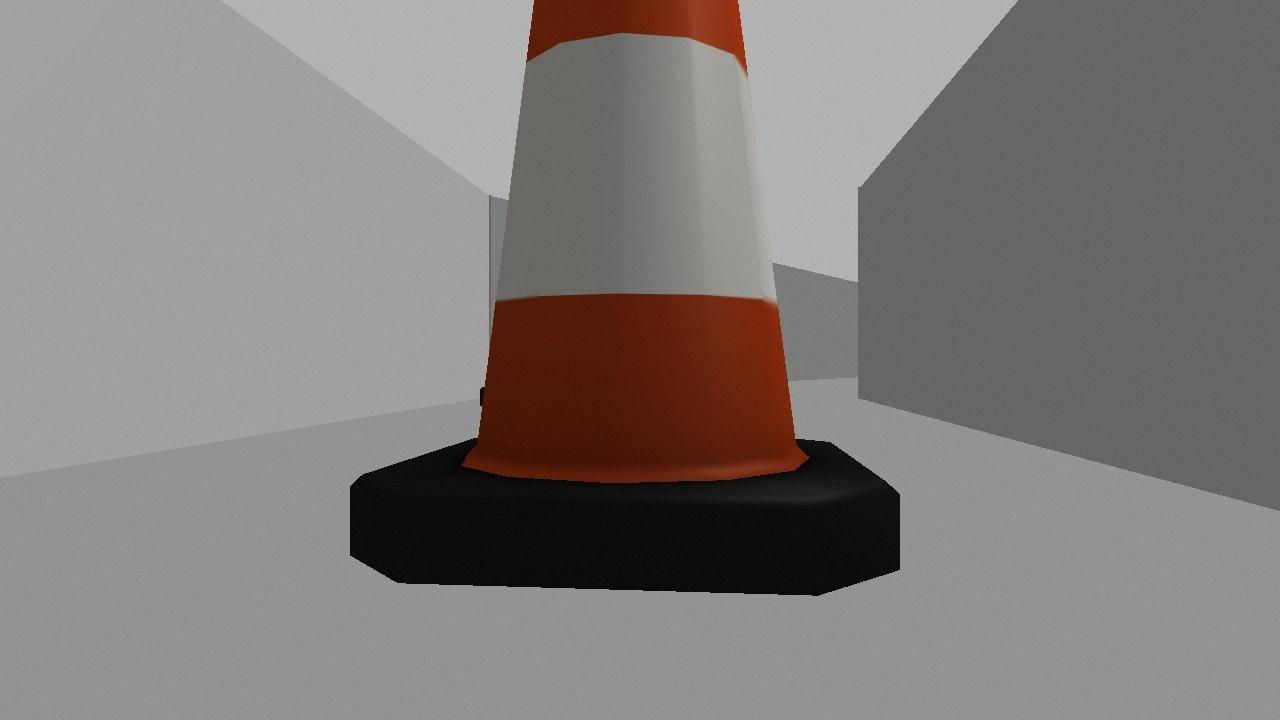cone_barrel: (350, 0, 900, 594)
